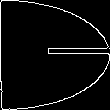L_W: (5, 40, 105, 70)
